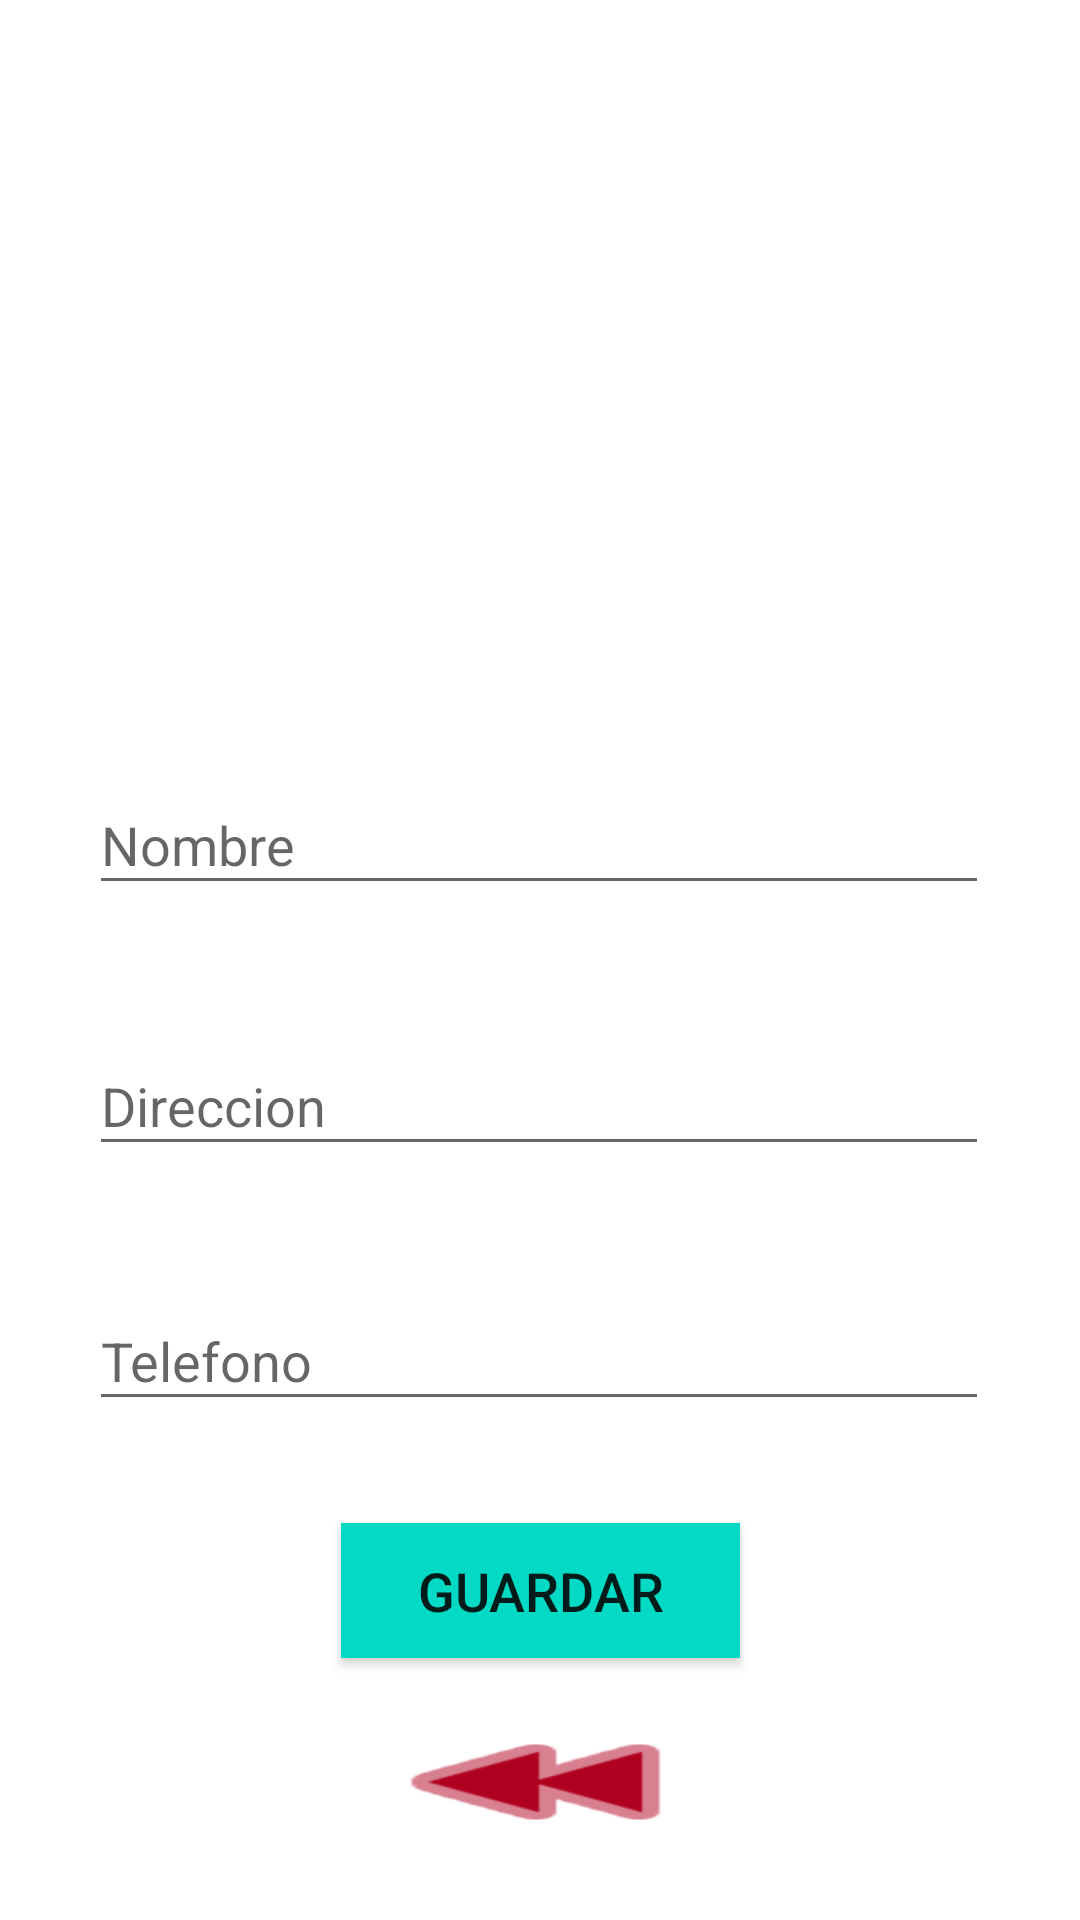

Icons on this 1080 × 1920 Android screen, each with the point to tap as point (x, y):
rew: point (535, 1782)
